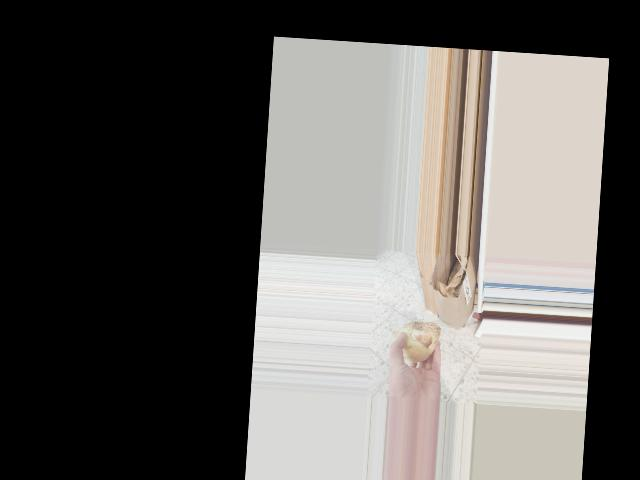onion: (393, 316, 441, 366)
